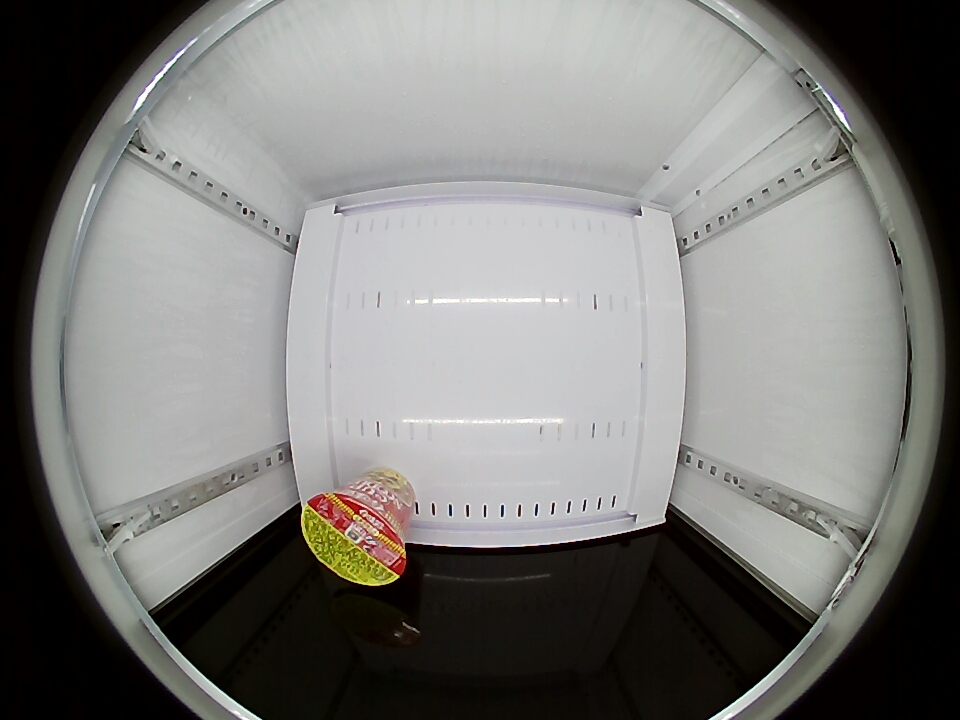heweidao3: (301, 486, 407, 586)
